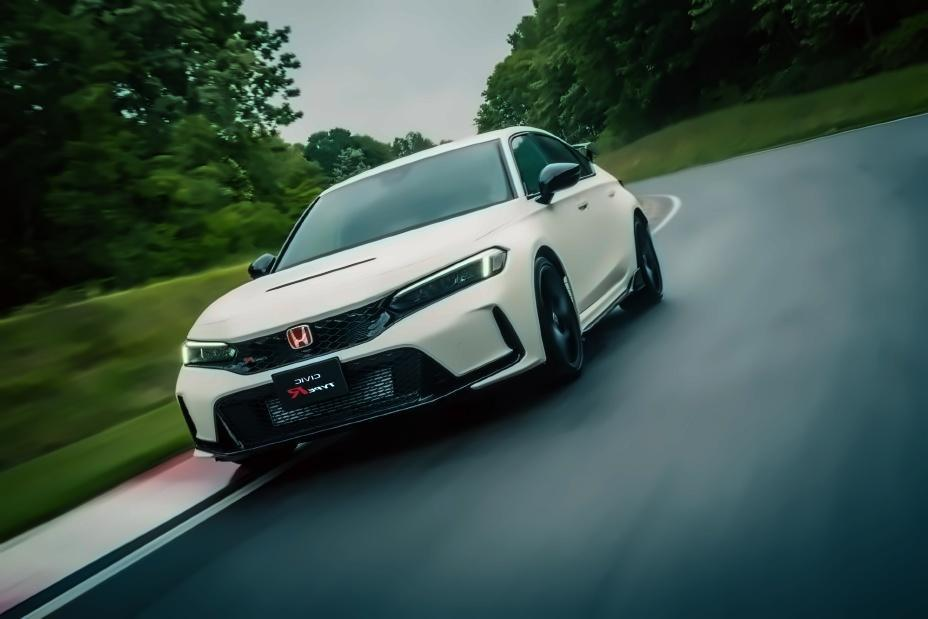Car hood: (186, 194, 517, 378)
Fender - -F-L-: (514, 220, 578, 300)
Fender - -R-L-: (605, 190, 667, 239)
Front bumper: (175, 268, 551, 527)
Headlight - -L-: (387, 240, 513, 334)
Headlight - -R-: (179, 338, 247, 376)
Passenger-s door - -F-L-: (505, 131, 616, 338)
Passenger-s door - -R-L-: (534, 123, 652, 302)
Side bumper - -L-: (570, 254, 652, 351)
Side mirror - -L-: (534, 161, 586, 200)
Side mirror - -R-: (245, 243, 279, 284)
